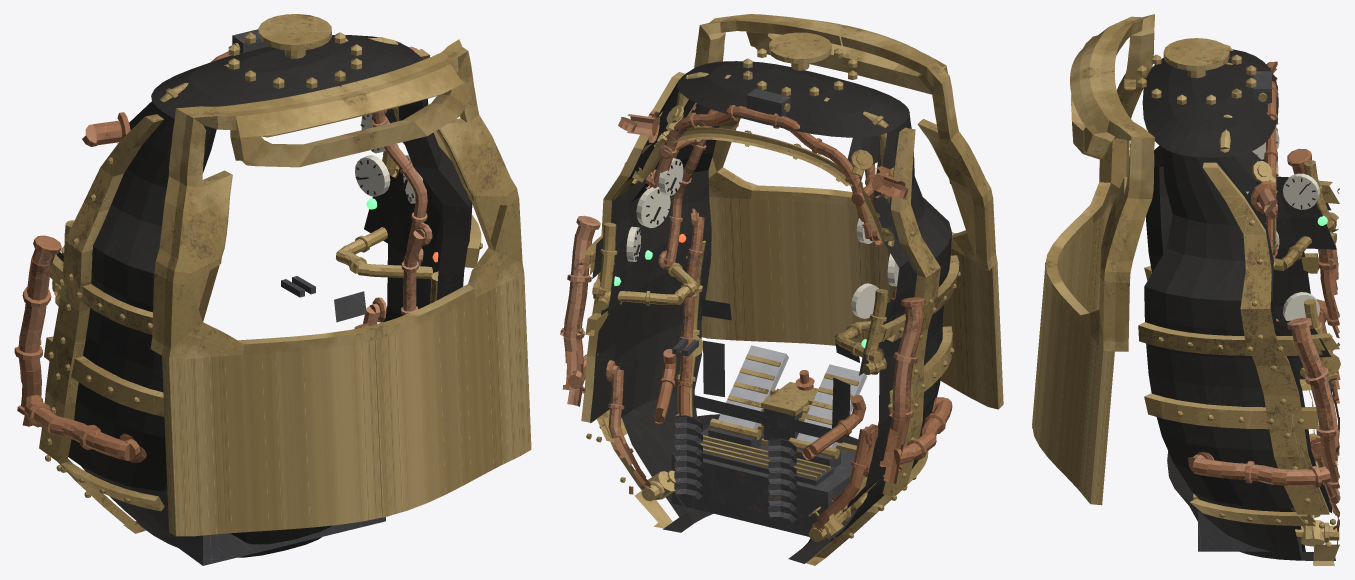
File: cockpit_view_draco.glb
3 renders of one model, left to right at view 1: azimuth 30°, elevation 25°; view 2: azimuth 150°, elevation 25°; view 3: azimuth 270°, elevation 25°, orthographic. The views are drawn at different scales.
Parts seen in each view (by area): view 1: Screen_Frame.001, Cockpit_Interior; view 2: Cockpit_Interior, Screen_Frame.001; view 3: Cockpit_Interior, Screen_Frame.001.
Boxes of the visible parts, x1,y1,x2,y2 form: Screen_Frame.001: [150, 39, 531, 536]; Cockpit_Interior: [14, 14, 482, 565]; Cockpit_Interior: [560, 32, 960, 565]; Screen_Frame.001: [694, 14, 1003, 409]; Cockpit_Interior: [1137, 38, 1340, 565]; Screen_Frame.001: [1032, 14, 1154, 505].
Size of the model in its own units: 2.16 by 2.66 by 1.57.
9 materials, 6 textured.
